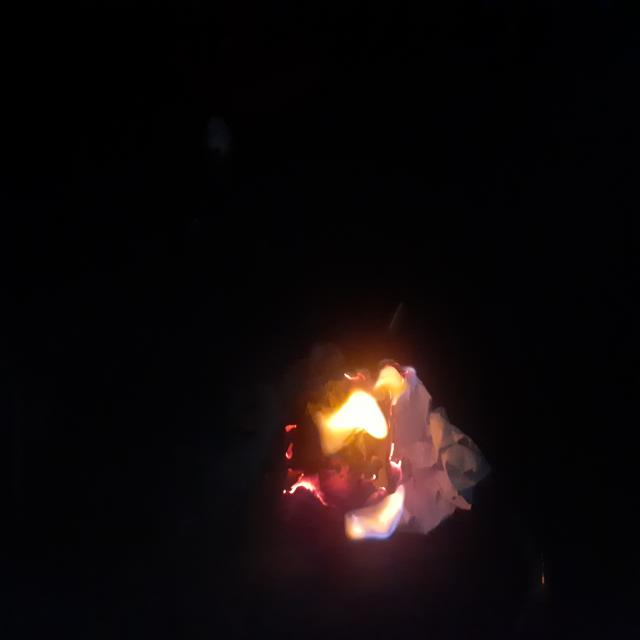Fire: (75, 390, 207, 543)
